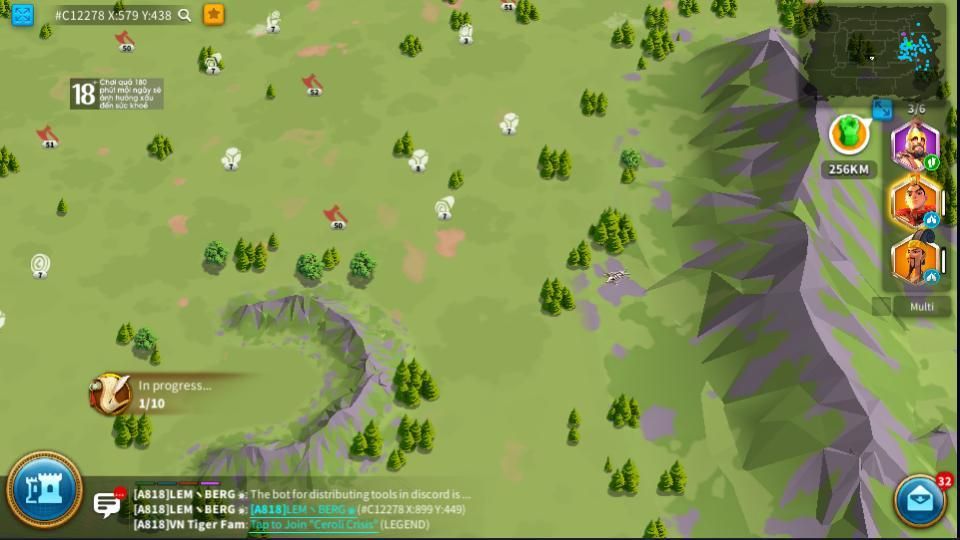gem-z-out: (0, 308, 7, 329)
march_idle: (924, 271, 939, 283), (923, 213, 938, 225)
march_marching: (923, 156, 938, 169)
